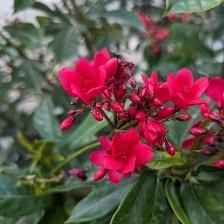jatropha: (99, 128, 158, 178), (59, 59, 110, 103), (167, 66, 211, 113)
